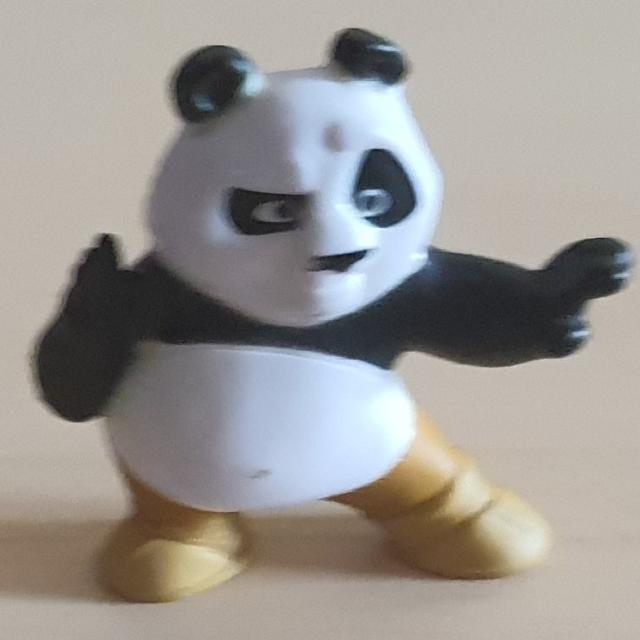Panda: (30, 26, 635, 603)
